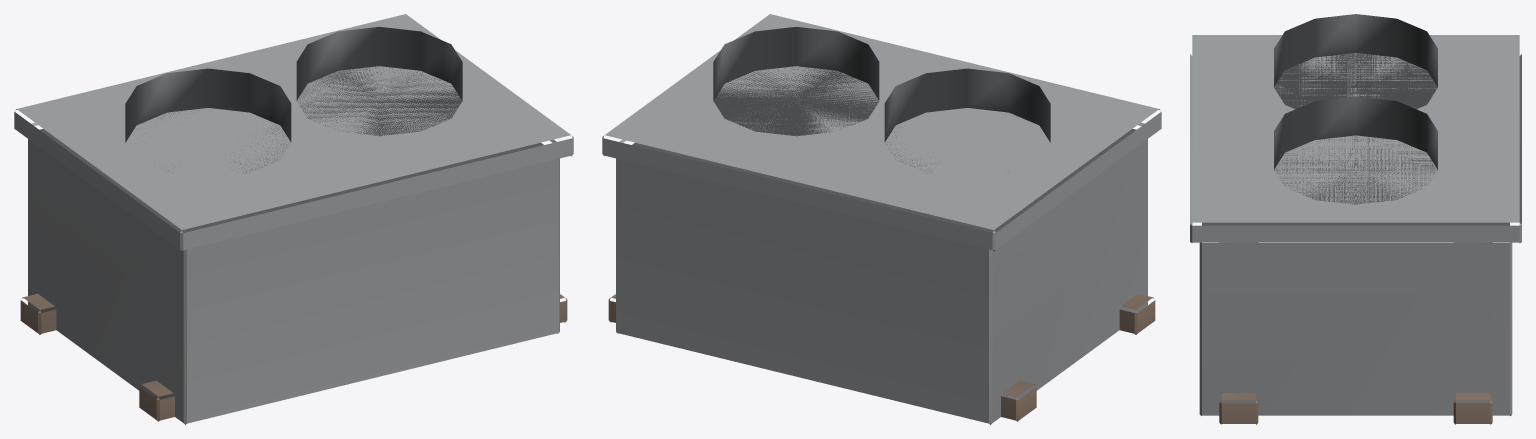
File: hvac_unit.glb
3 renders of one model, left to right at view 1: azimuth 30°, elevation 25°; view 2: azimuth 150°, elevation 25°; view 3: azimuth 270°, elevation 25°, orthographic.
Visible parts, largest first — view 1: props_hvac_unit; view 2: props_hvac_unit; view 3: props_hvac_unit.
Part boxes in pixels (x1=…): props_hvac_unit: x1=14, y1=14, x2=573, y2=424; props_hvac_unit: x1=602, y1=14, x2=1161, y2=424; props_hvac_unit: x1=1190, y1=14, x2=1521, y2=424.
Size of the model in its own units: 2.4 by 1.34 by 1.7.
